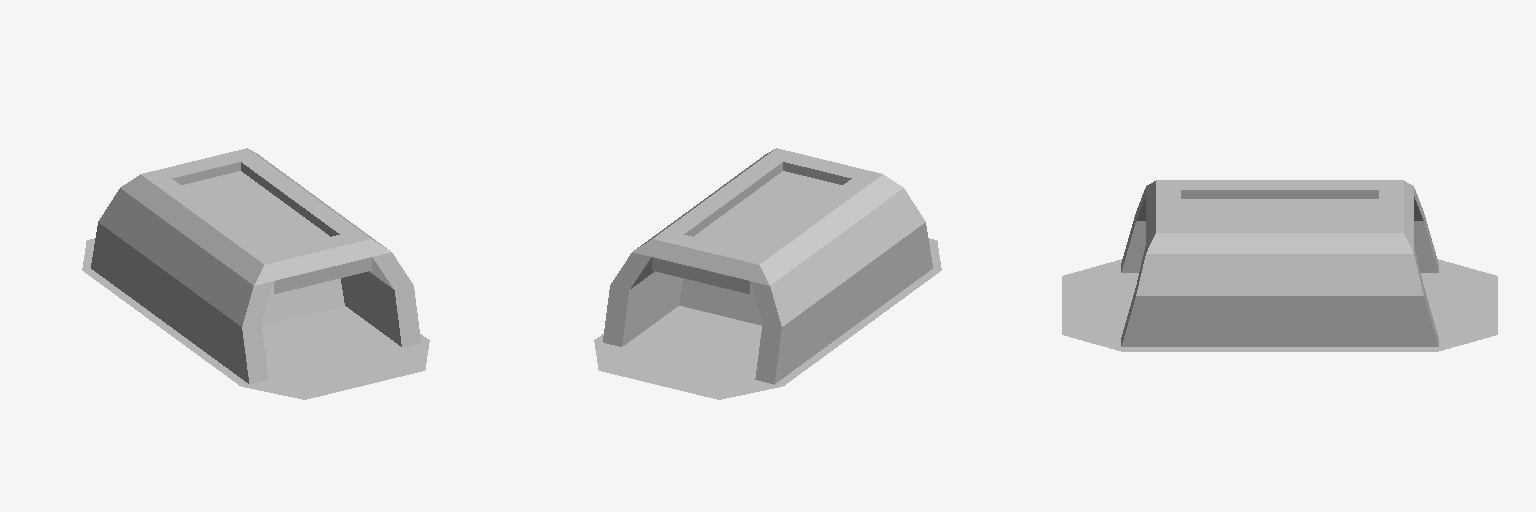
The model's file is gate.obj.
The picture shows the model from 3 angles: view 1: azimuth 30°, elevation 25°; view 2: azimuth 150°, elevation 25°; view 3: azimuth 270°, elevation 25°; orthographic projection.
Visible parts, largest first — view 1: polygon2, polygon0, polygon1; view 2: polygon2, polygon0, polygon1; view 3: polygon2, polygon0, polygon1.
Part boxes in pixels (left/top/right/bottom): polygon2: left=91, top=148, right=420, bottom=394; polygon0: left=261, top=257, right=404, bottom=389; polygon1: left=82, top=238, right=429, bottom=399; polygon2: left=603, top=148, right=932, bottom=394; polygon0: left=619, top=257, right=762, bottom=389; polygon1: left=594, top=238, right=941, bottom=399; polygon2: left=1072, top=180, right=1487, bottom=346; polygon0: left=1082, top=197, right=1477, bottom=337; polygon1: left=1062, top=259, right=1497, bottom=351.
Bounding box in the file's own units: 5.5 × 2.75 × 11.